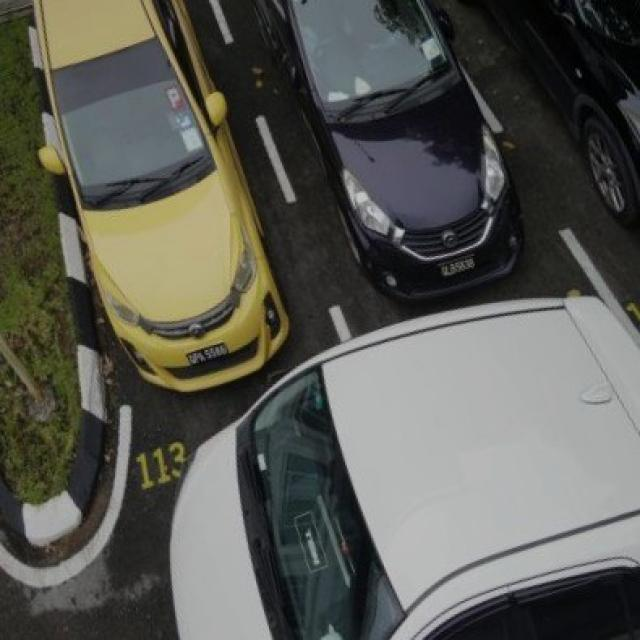Legalparking: (3, 0, 300, 379), (288, 0, 556, 290)
illegalparking: (168, 290, 640, 640)
